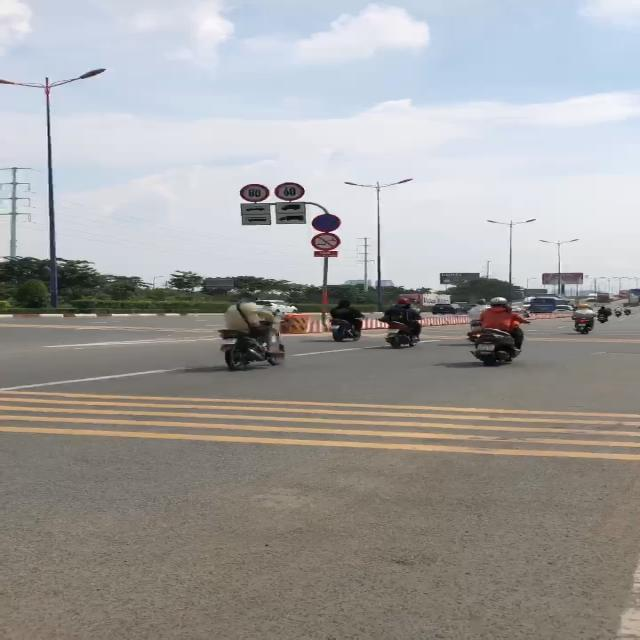Bien bao toc do toi da cho phep: (272, 182, 308, 202), (238, 183, 270, 204)
